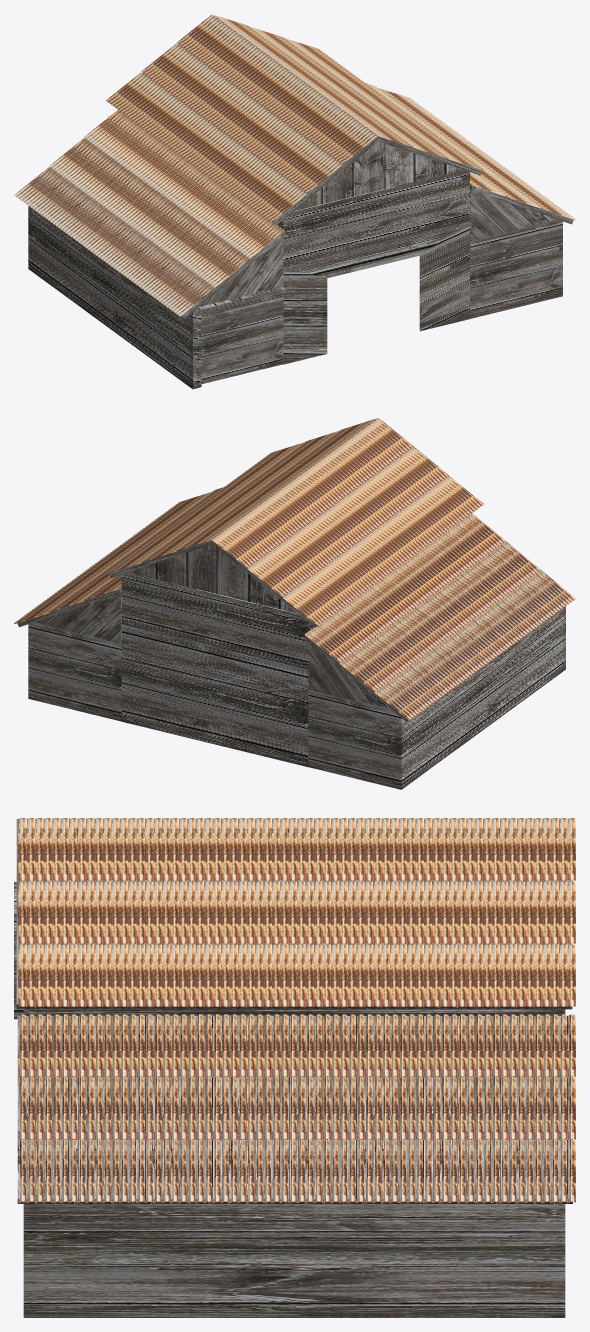
File: ambar(0.3).fbx
3 renders of one model, top to bottom at view 1: azimuth 30°, elevation 25°; view 2: azimuth 150°, elevation 25°; view 3: azimuth 270°, elevation 25°, orthographic. The views are drawn at different scales.
Parts seen in each view (by area): view 1: Cube.007, Cube.008, Cube.003, Cube.001, Cube.006, Cube.004, Cube.002, Cylinder.002, Cube.005, Cylinder.001, Cylinder; view 2: Cube.007, Cube.008, Cube.001, Cube.003, Cube.006, Cube.004, Cube.002, Cylinder.002, Cylinder.001, Cube.005, Cylinder; view 3: Cube.007, Cube.008, Cube.002, Cube.006, Cube.005, Cube.004.
Part boxes in pixels (x1,y1,x2,y2): Cube.007: [106, 14, 483, 221]; Cube.008: [14, 83, 575, 316]; Cube.003: [28, 206, 286, 389]; Cube.001: [283, 222, 469, 364]; Cube.006: [18, 89, 573, 318]; Cube.004: [277, 170, 469, 267]; Cube.002: [395, 186, 562, 318]; Cylinder.002: [295, 141, 462, 210]; Cube.005: [111, 16, 482, 225]; Cylinder.001: [396, 182, 556, 241]; Cylinder: [200, 238, 283, 306]; Cube.007: [106, 418, 483, 625]; Cube.008: [14, 487, 575, 720]; Cube.001: [121, 624, 308, 766]; Cube.003: [308, 606, 565, 789]; Cube.006: [17, 493, 573, 721]; Cube.004: [121, 572, 313, 669]; Cube.002: [28, 589, 195, 721]; Cylinder.002: [128, 544, 296, 613]; Cylinder.001: [35, 584, 194, 643]; Cube.005: [109, 418, 463, 627]; Cylinder: [308, 641, 389, 708]; Cube.007: [18, 818, 575, 1006]; Cube.008: [18, 1014, 575, 1202]; Cube.002: [23, 1201, 565, 1317]; Cube.006: [17, 880, 572, 1203]; Cube.005: [16, 819, 572, 1009]; Cube.004: [23, 1006, 565, 1016].
Bounding box in the file's own units: 3350 × 1671 × 2452.
